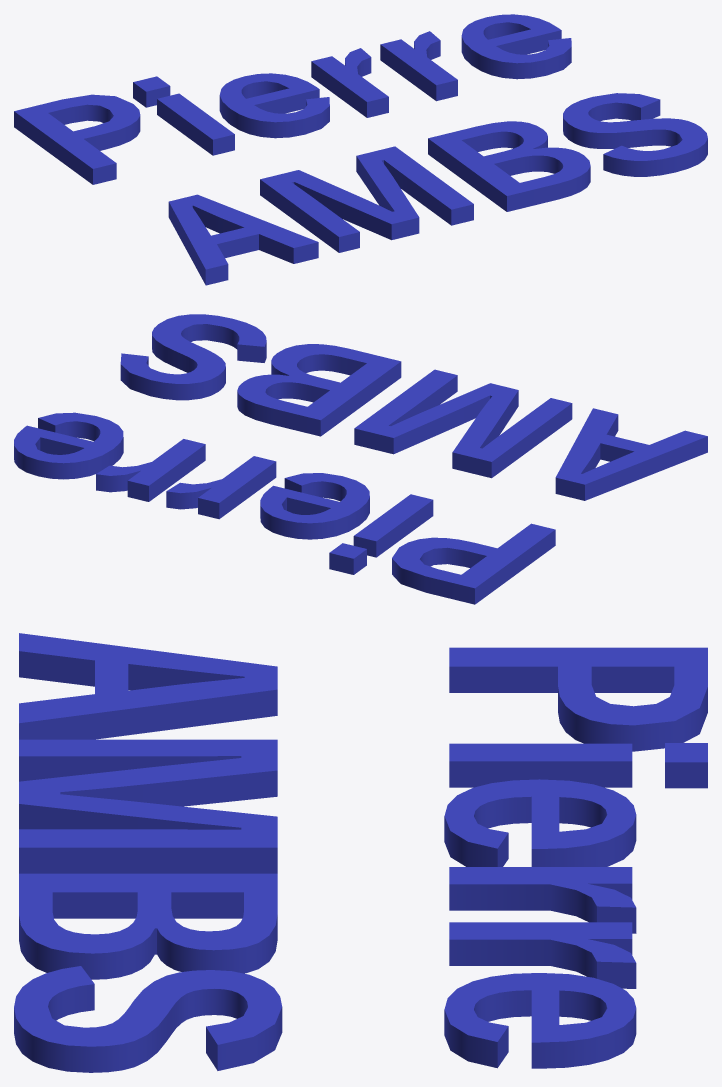
File: Pierre AMBS.fbx
The picture shows the model from 3 angles, top to bottom: view 1: azimuth 30°, elevation 25°; view 2: azimuth 150°, elevation 25°; view 3: azimuth 270°, elevation 25°; orthographic projection. The views are drawn at different scales.
Visible parts, largest first — view 1: node_id137 (×2); view 2: node_id137 (×2); view 3: node_id137 (×2).
Boxes of the visible parts, left/top/right/bottom form: node_id137 (×2): left=14, top=14, right=707, bottom=285; node_id137 (×2): left=14, top=314, right=707, bottom=604; node_id137 (×2): left=14, top=633, right=707, bottom=1072.
Size of the model in its own units: 0.6342 by 0.0188 by 0.4497.
